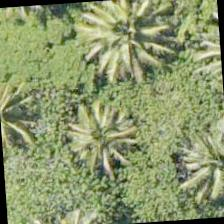Kelapa_Sawit: (48, 91, 144, 187), (84, 0, 180, 80), (171, 110, 223, 204), (0, 63, 51, 157)
